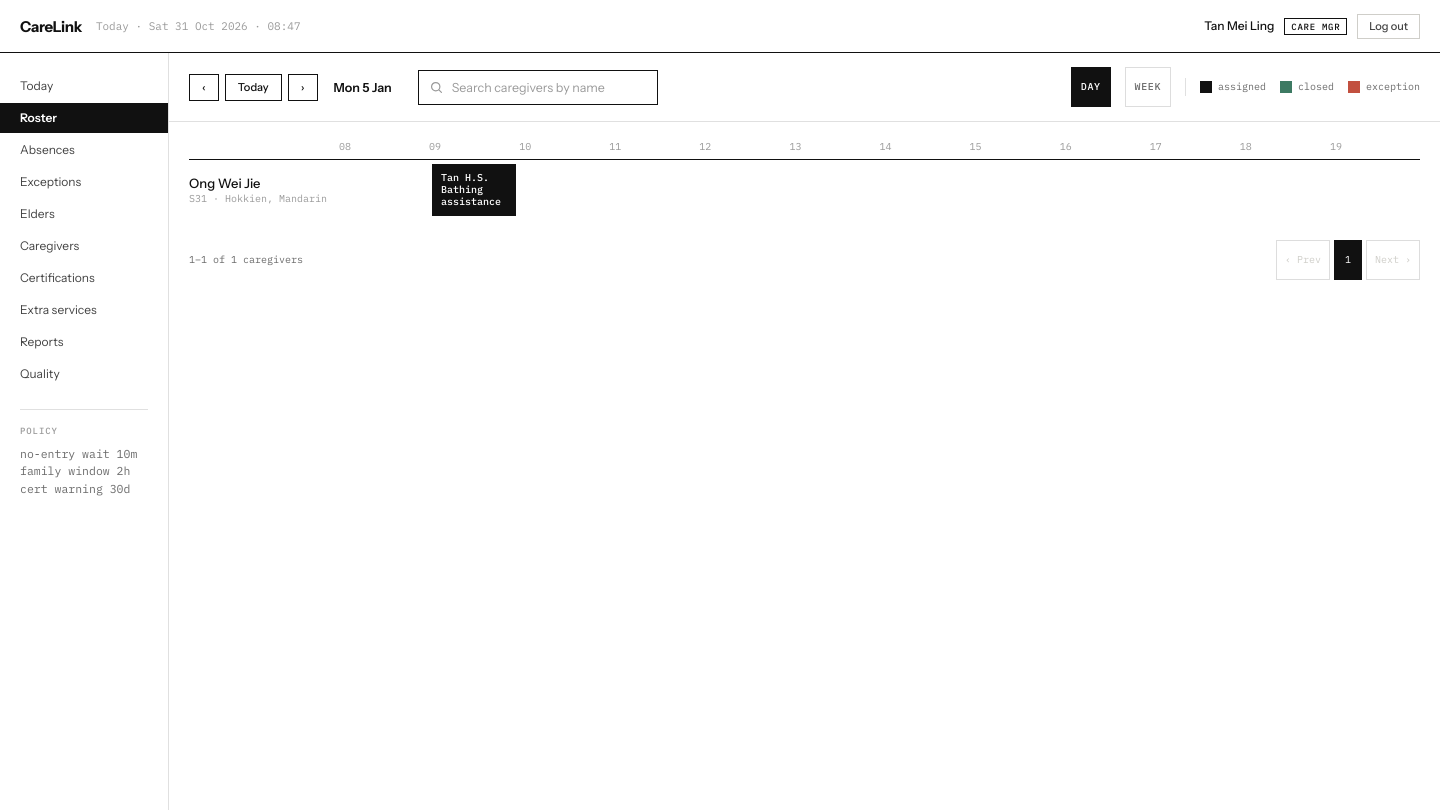
Test: lets the manager give a visit still ahead to someone else, with a reason
Click the button with aria-label "Reassign 09:00 Tan Hock Seng from Ong Wei Jie": (474, 190) [432,164,516,216]
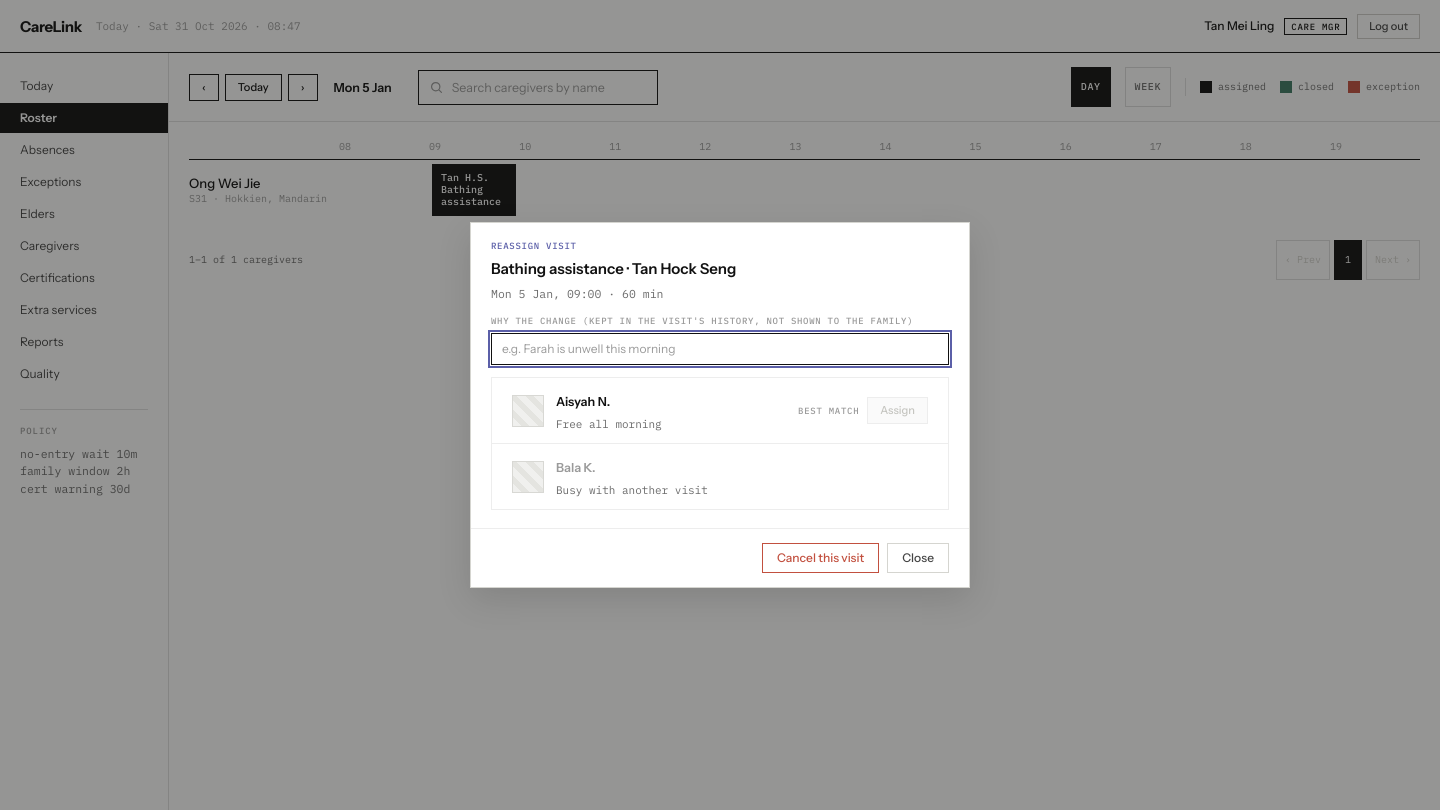
Expected: the number of buttons "Assign" is 1, [867,397,928,424]
Expected: the button "Assign" is disabled, [867,397,928,424]
In the field: (720, 349) [491,333,949,365], type "Wei Jie is unwell"
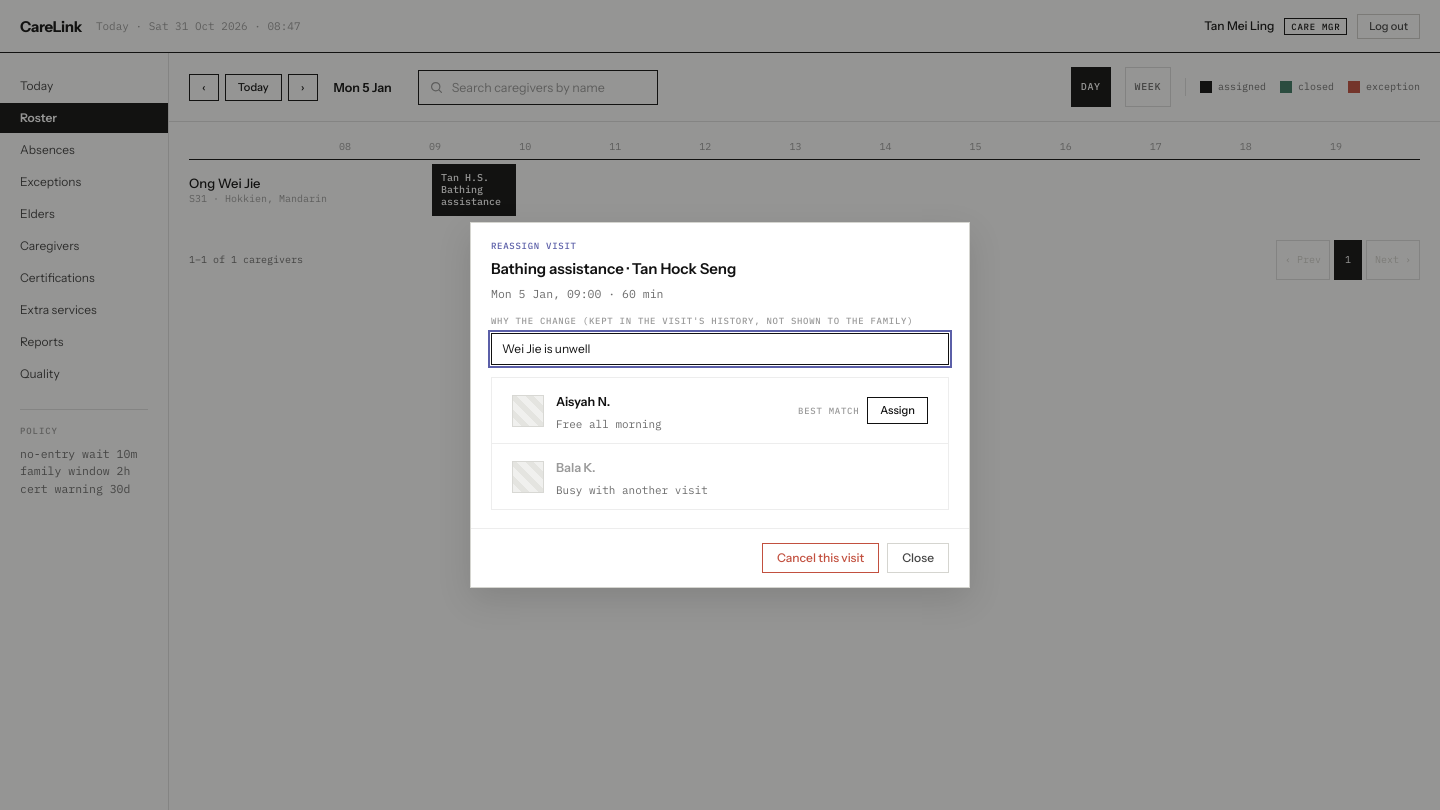
Click the button "Assign": (898, 411) [867,397,928,424]
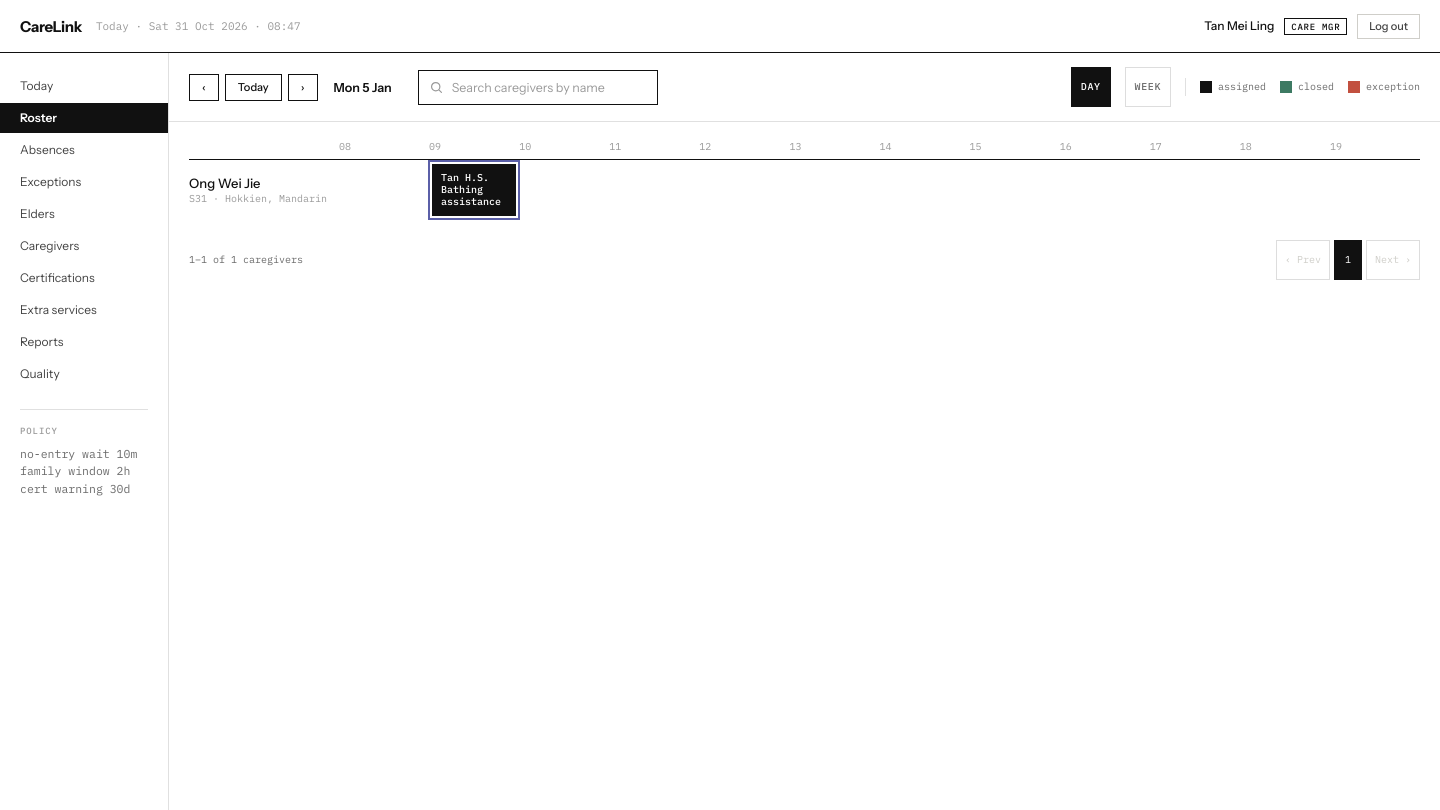
Expected: the element "Ong Wei Jie S31 · Hokkien, Mandarin" is shown, [189,175,327,205]
Expected: the dialog is gone
